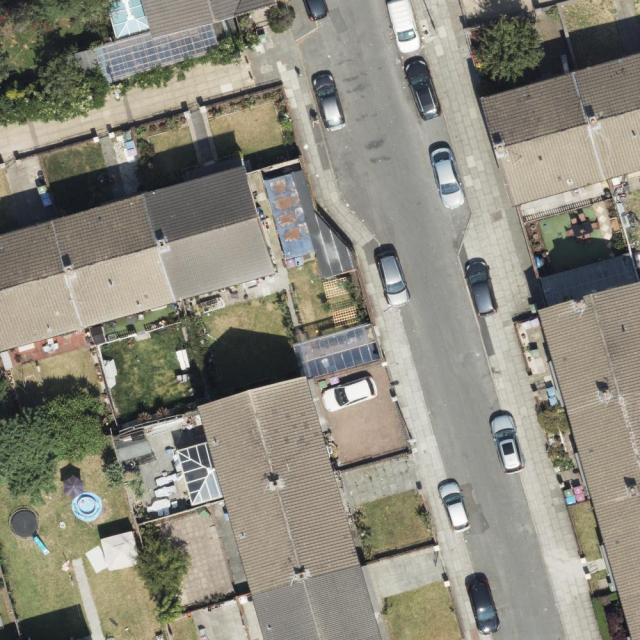roof: (175, 375, 385, 640), (0, 165, 278, 353), (539, 281, 640, 640), (479, 52, 640, 209), (91, 1, 279, 87)
skylight: (90, 20, 222, 87), (176, 439, 224, 506)
